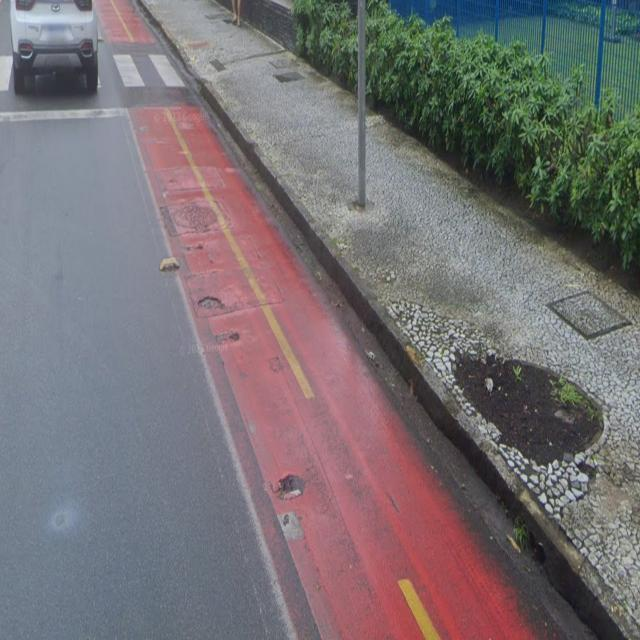Bueiro: (164, 190, 228, 248)
Buraco: (269, 459, 310, 505), (195, 280, 233, 316), (218, 328, 248, 350)
